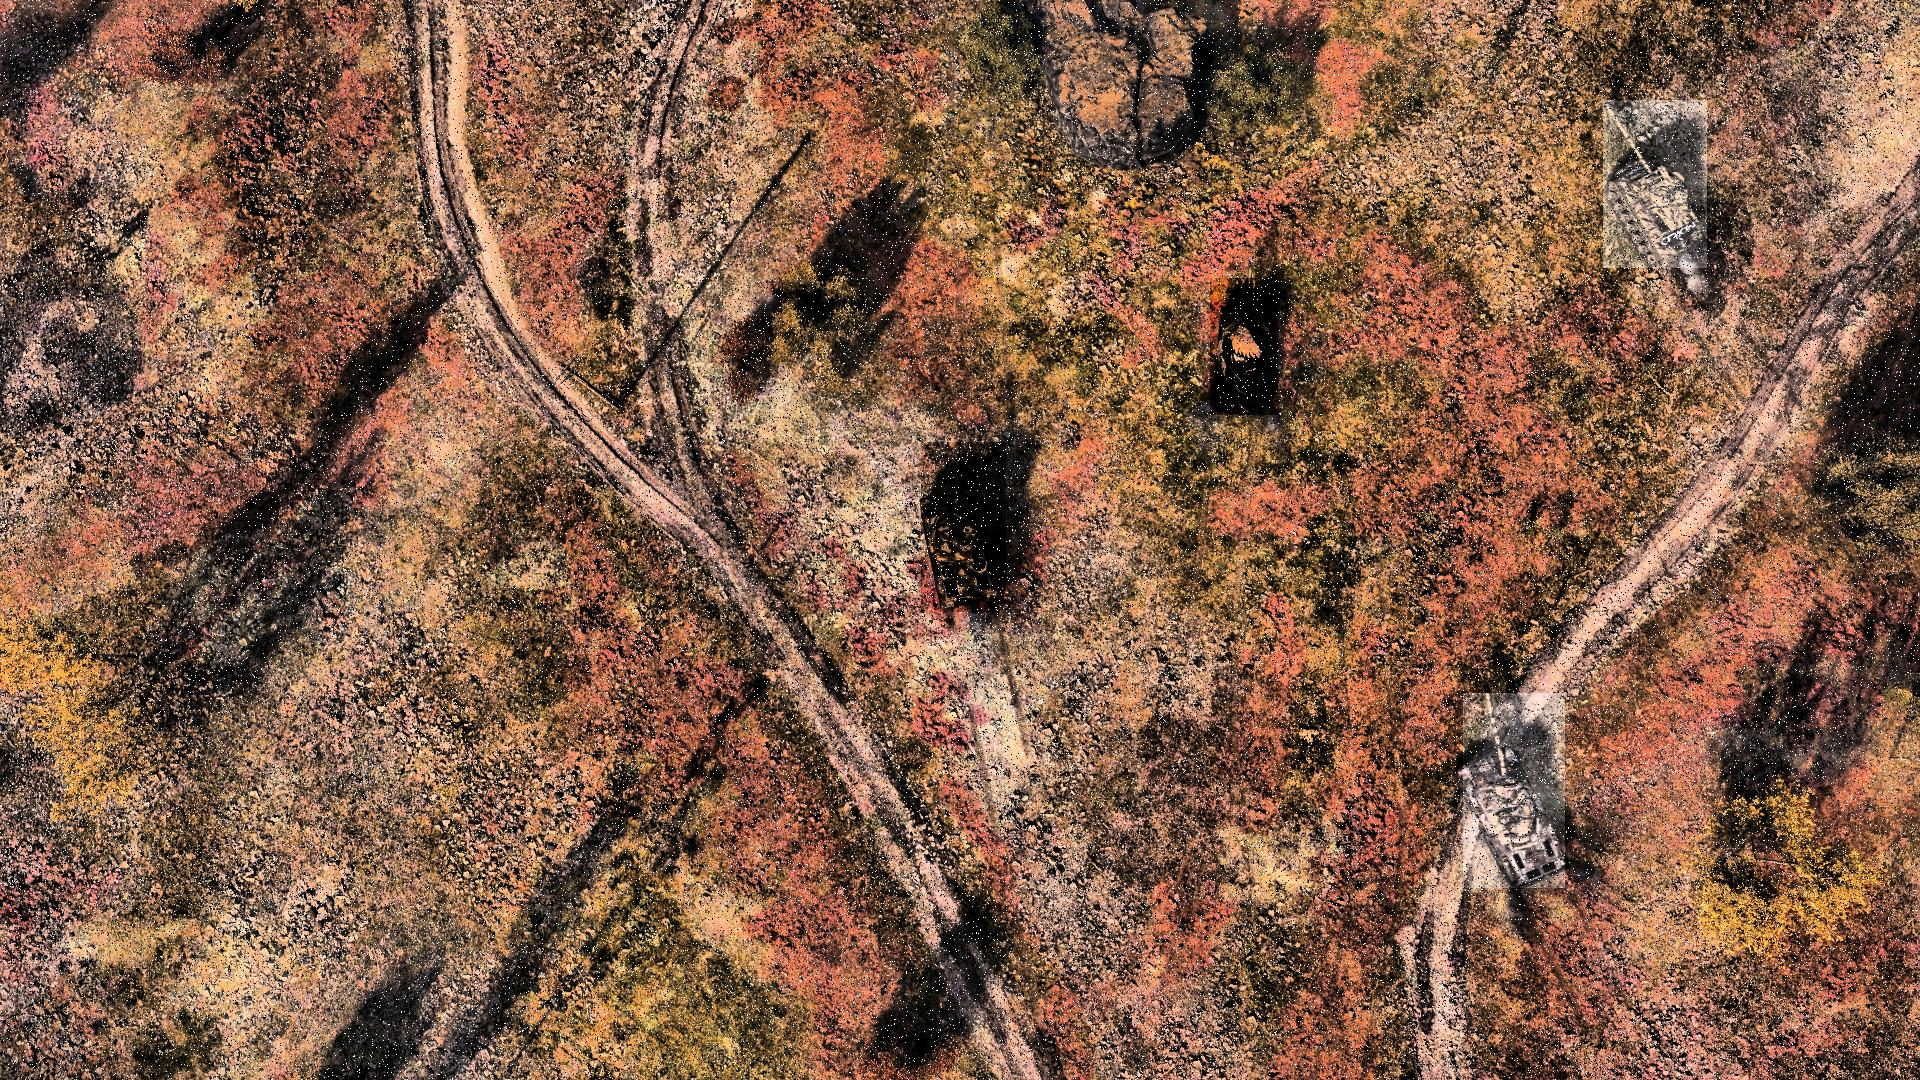military-vehicle: (1463, 693, 1565, 888), (1603, 100, 1707, 268), (922, 442, 1007, 613), (1210, 278, 1278, 415)
